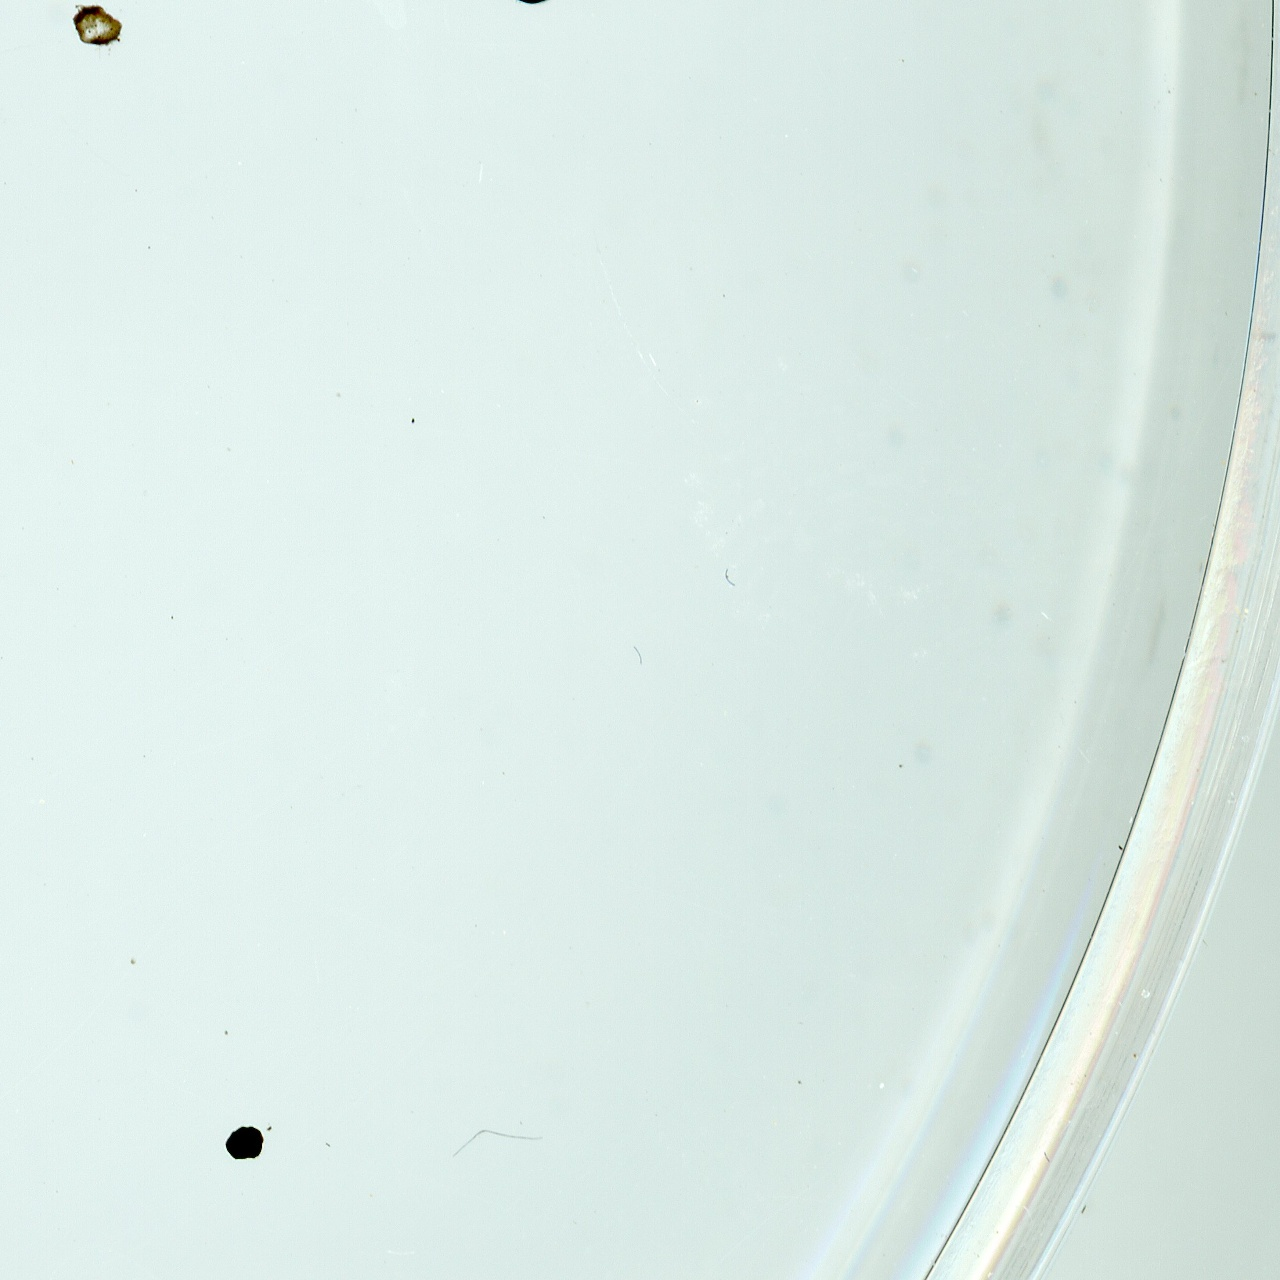arthropod: (362, 0, 595, 32)
